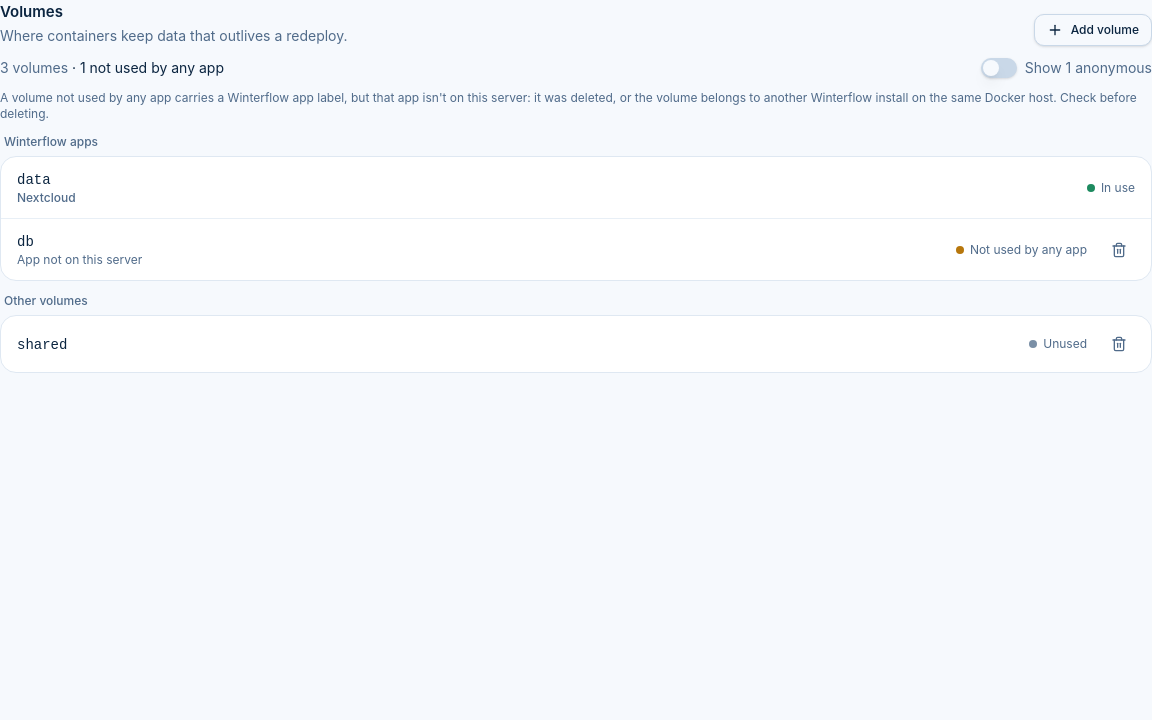
Test case: VolumesSection › deletes an unused volume after confirmation and reloads
The width and height of the screenshot is (1152, 720).
Check: the heading "Winterflow apps" is shown, box [4, 134, 98, 149]
Click the button named "Delete volume shared" at (1119, 344), box [1103, 328, 1135, 360]
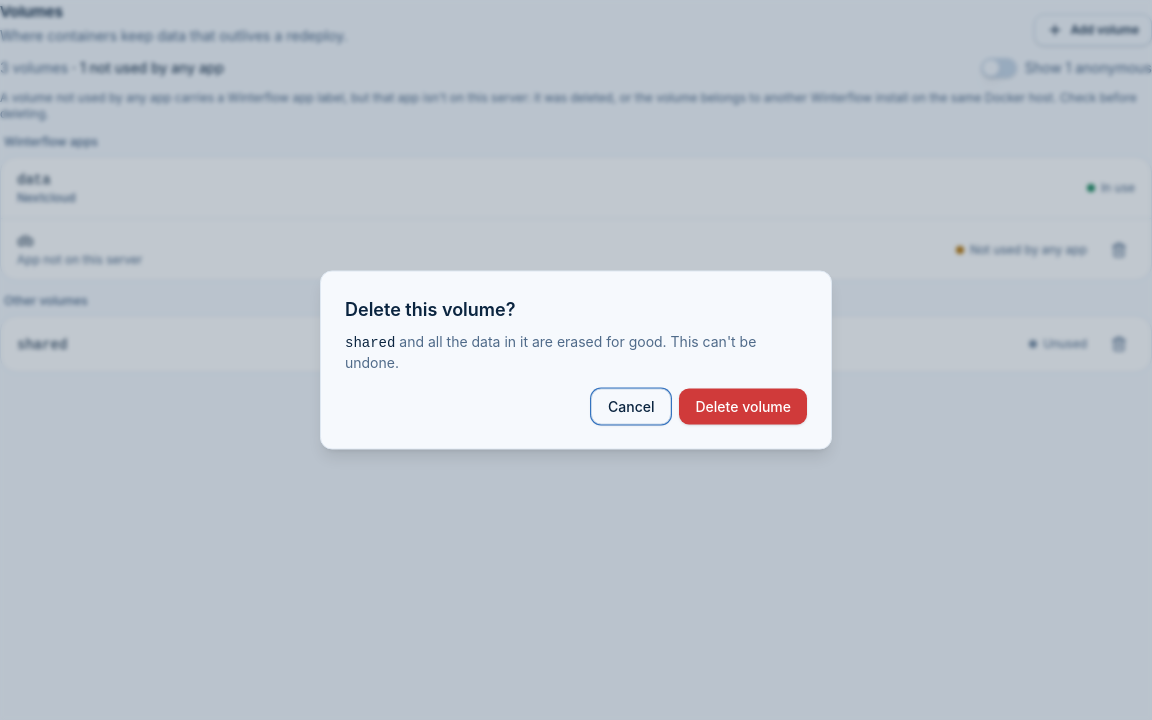
Check: the dialog shows "shared and all the data in it are erased for good.", box [320, 270, 832, 450]
Click the button "Delete volume" at (743, 406), box [680, 388, 807, 424]
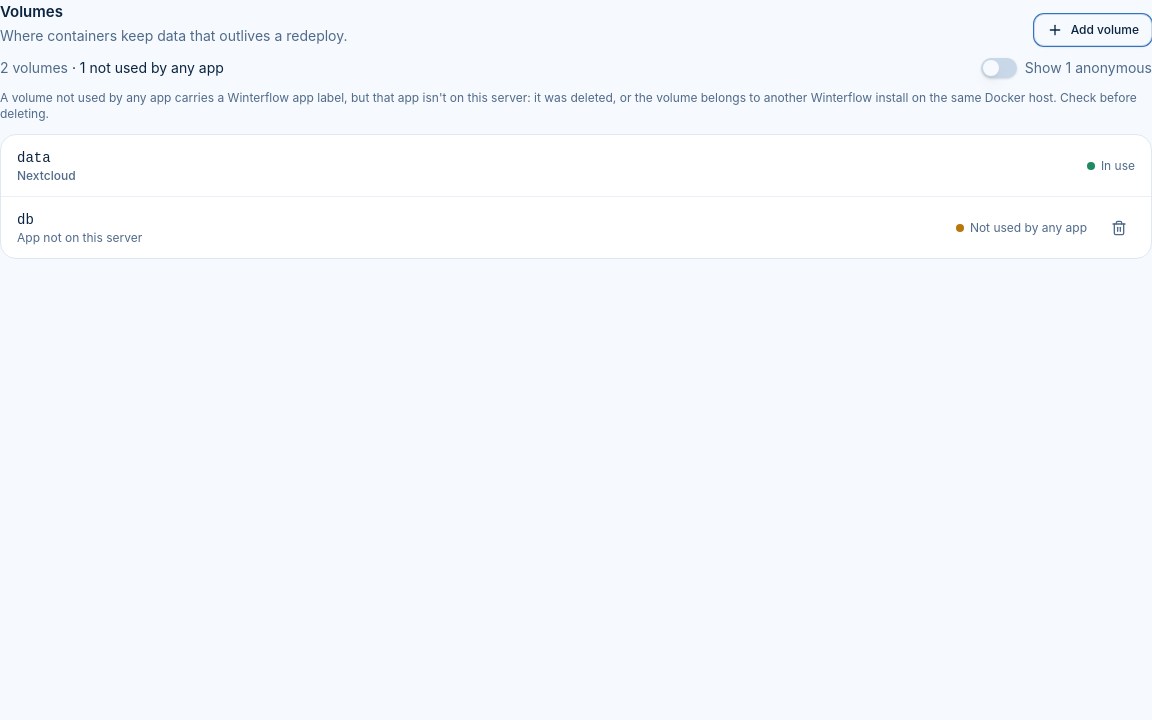
Check: the dialog is gone
